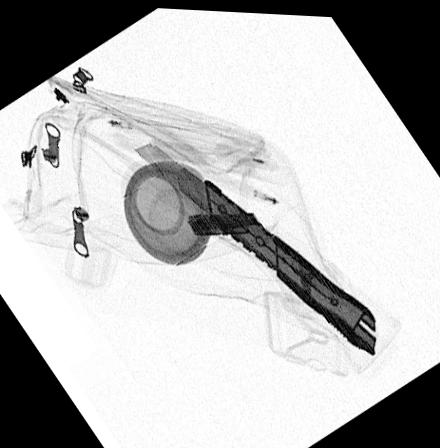Knife: (132, 140, 376, 351)
